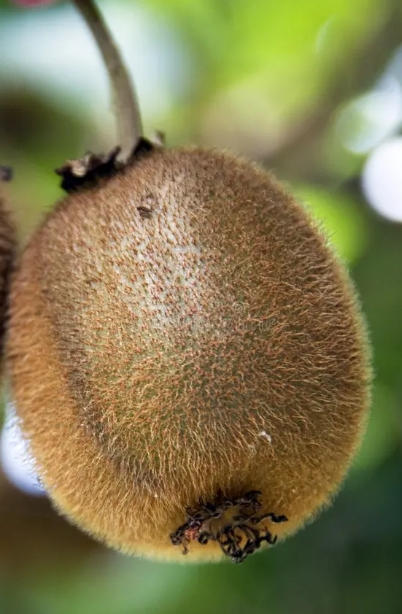kiwi: (11, 106, 379, 560)
